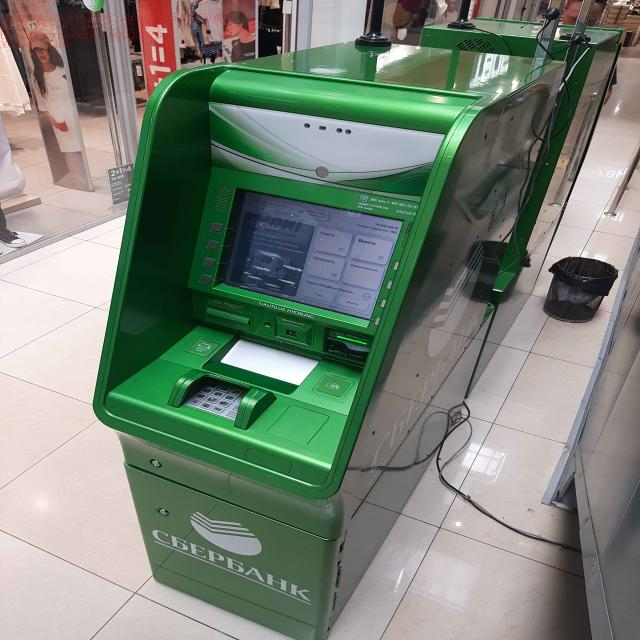bank: (92, 39, 553, 638)
